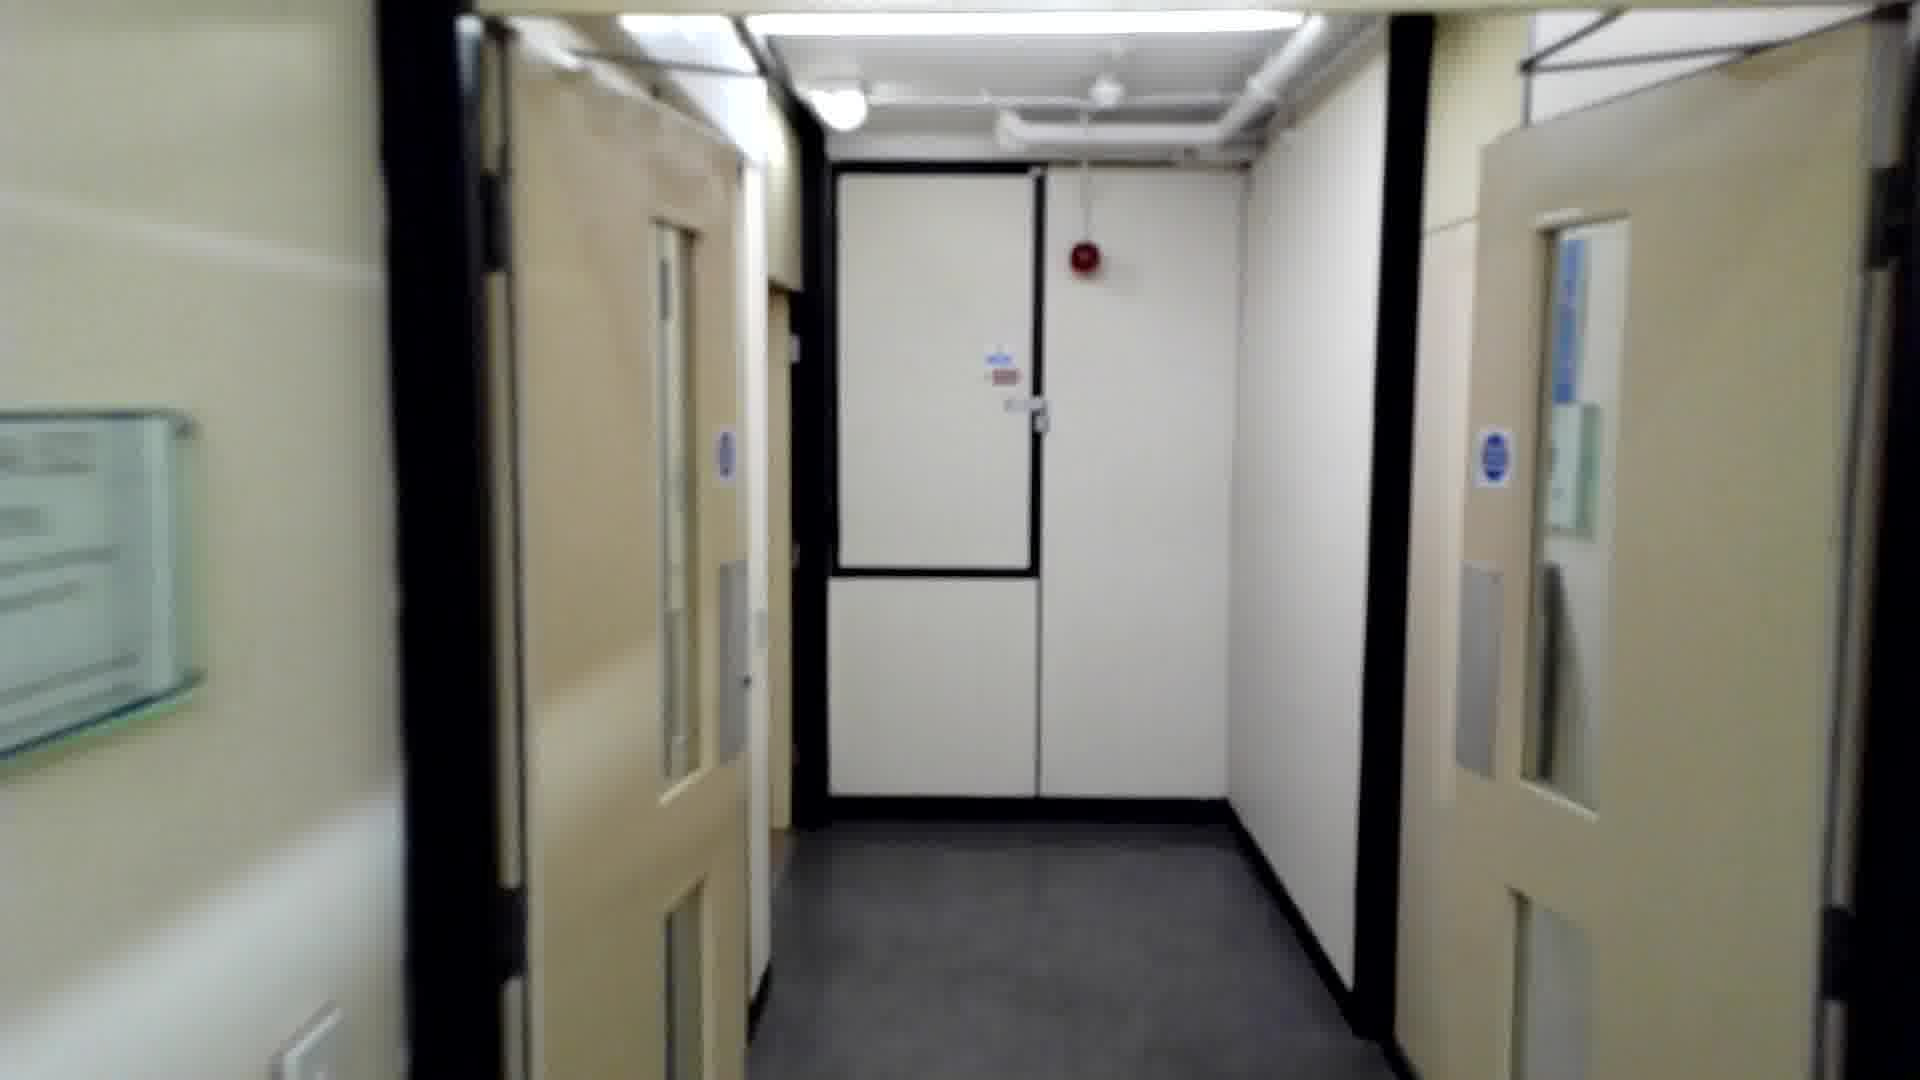Door: (1441, 7, 1913, 1080), (465, 13, 758, 1080)
